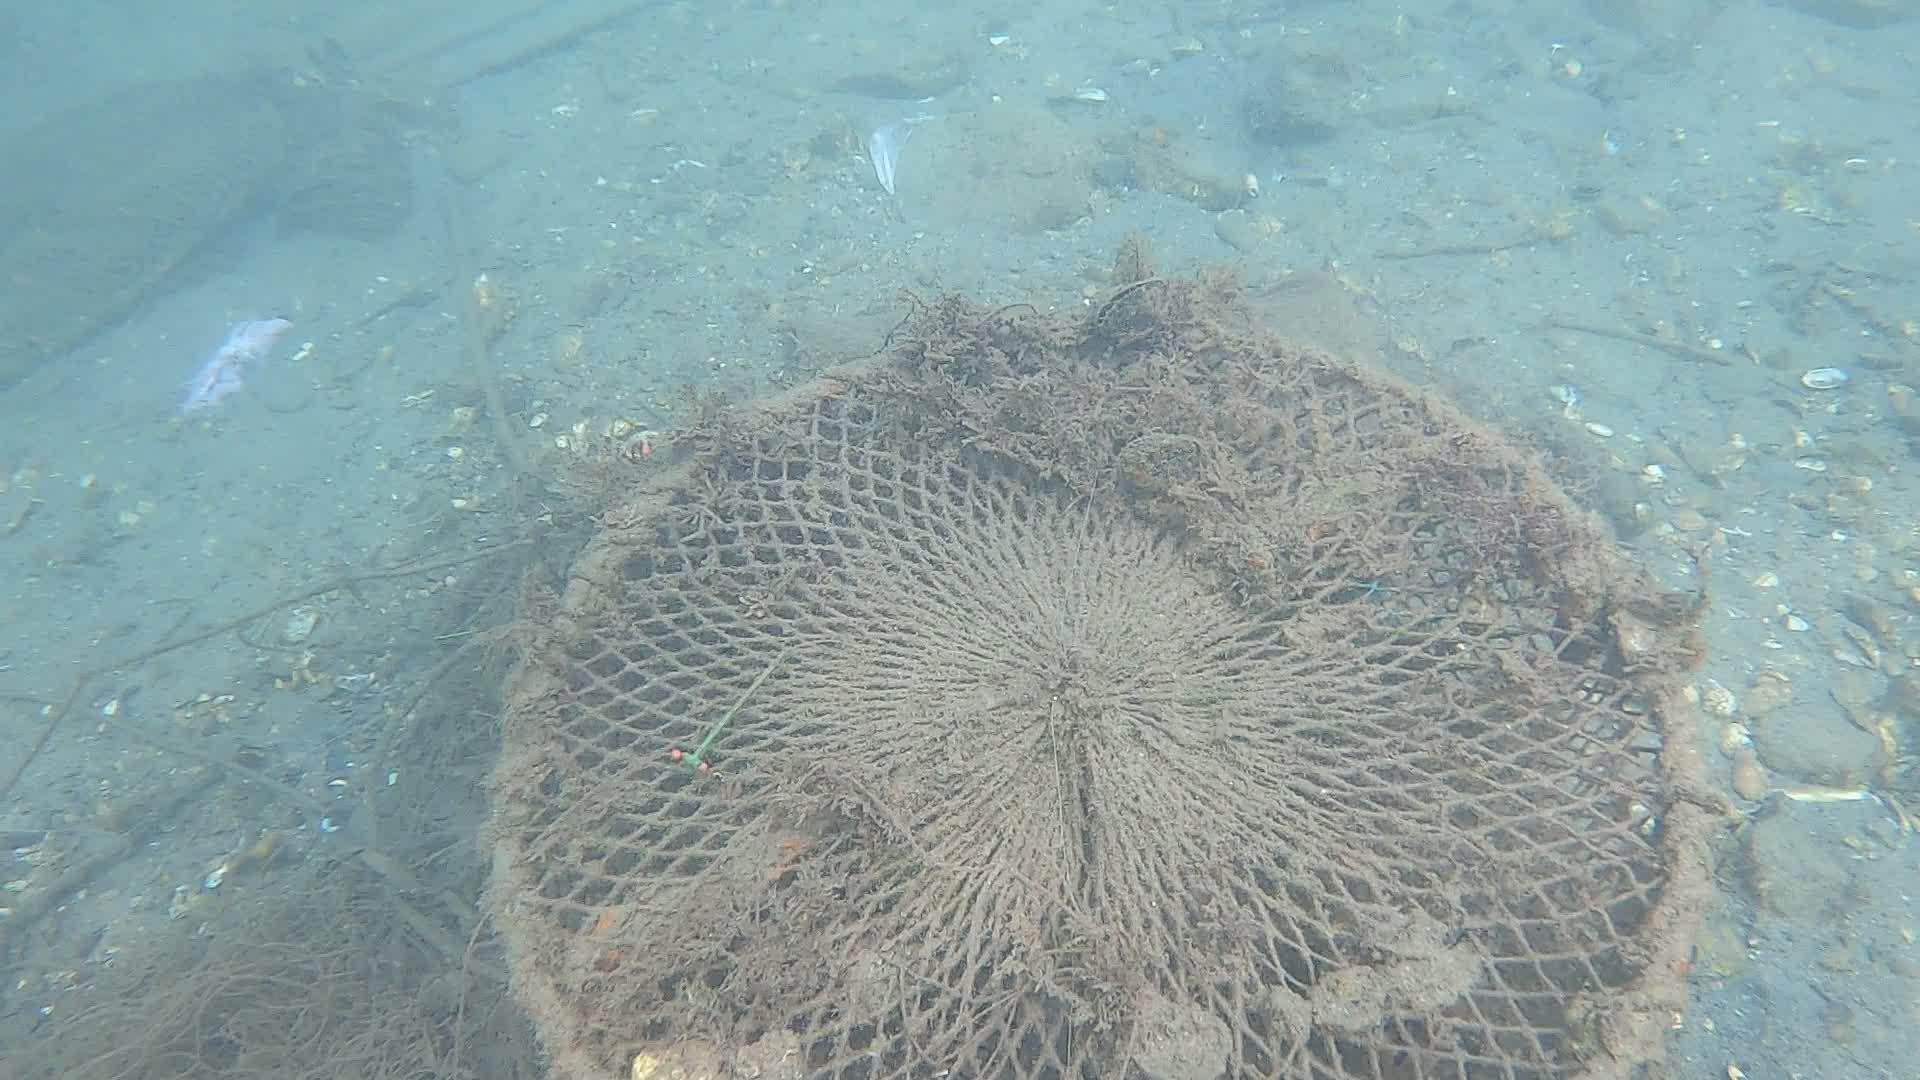circular fish trap: (477, 301, 1718, 1080)
